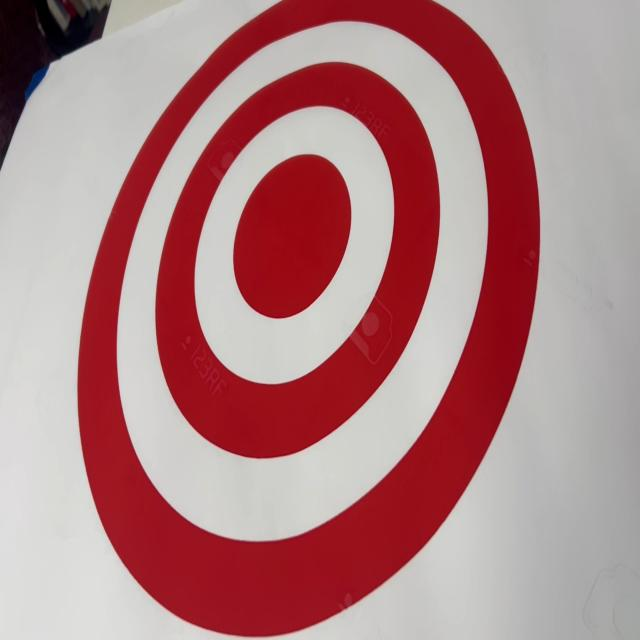target_red: (69, 0, 555, 640)
